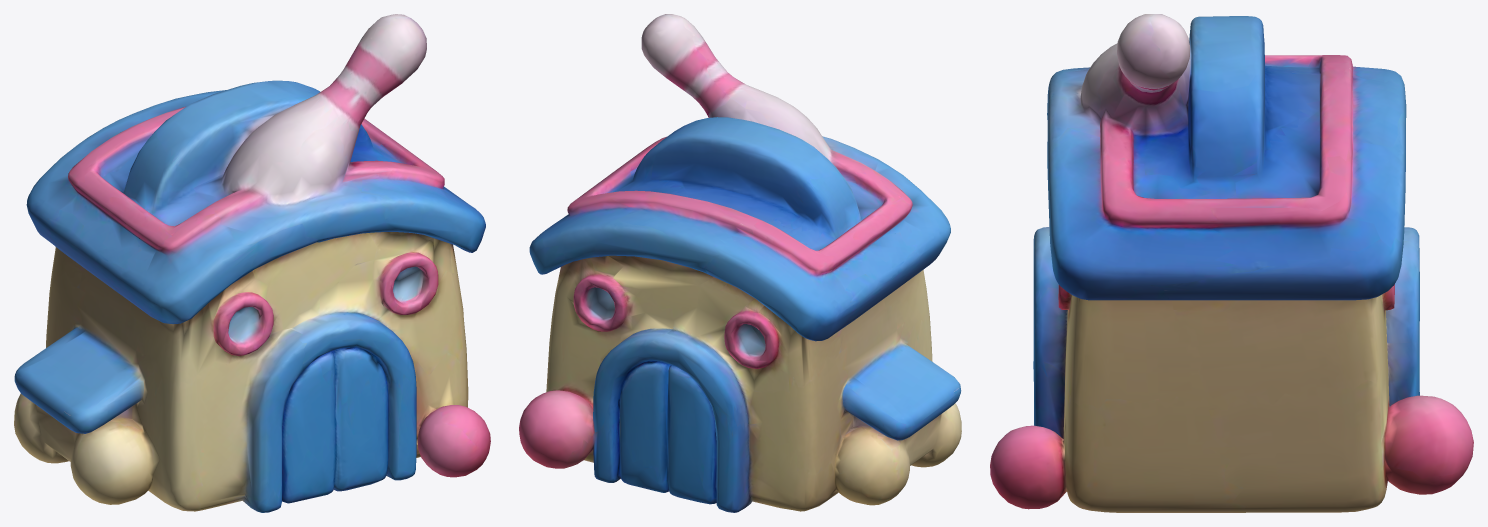
The model's file is bowling-alley.glb.
3 views of the same model, side by side, from view 1: azimuth 30°, elevation 25°; view 2: azimuth 150°, elevation 25°; view 3: azimuth 270°, elevation 25° (orthographic). The views are drawn at different scales.
Visible parts, largest first — view 1: tripo_node_f2c9b64d-db55-4ca7-ae5e-37f16ba7f2d7; view 2: tripo_node_f2c9b64d-db55-4ca7-ae5e-37f16ba7f2d7; view 3: tripo_node_f2c9b64d-db55-4ca7-ae5e-37f16ba7f2d7.
Part boxes in pixels (x1=…): tripo_node_f2c9b64d-db55-4ca7-ae5e-37f16ba7f2d7: x1=14, y1=14, x2=490, y2=512; tripo_node_f2c9b64d-db55-4ca7-ae5e-37f16ba7f2d7: x1=519, y1=14, x2=961, y2=512; tripo_node_f2c9b64d-db55-4ca7-ae5e-37f16ba7f2d7: x1=990, y1=14, x2=1473, y2=512.
Size of the model in its own units: 0.9508 by 1 by 0.9017.
1 material, 1 textured.
